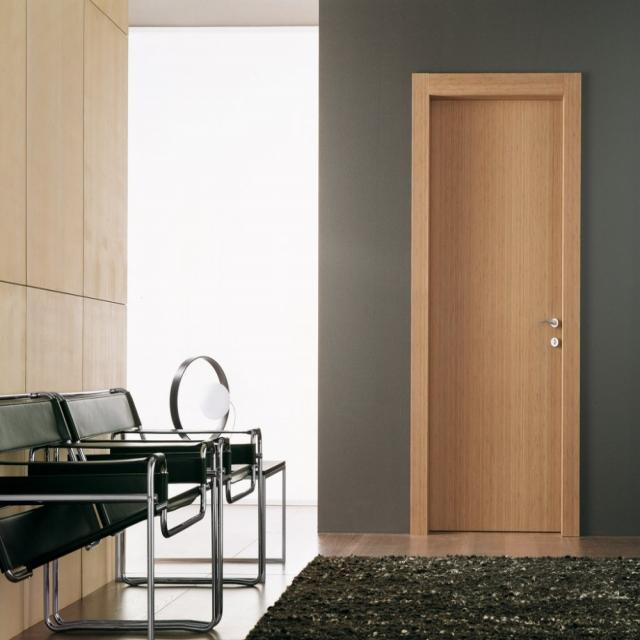close: (415, 77, 574, 550)
